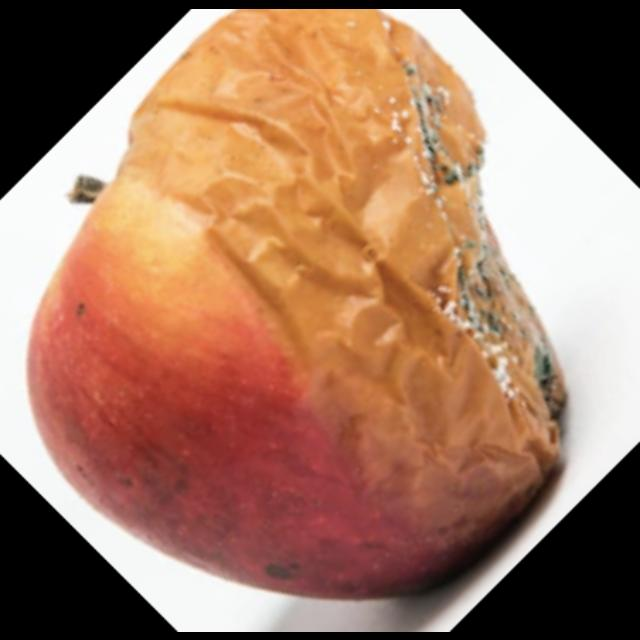Apel Tidak Segar: (23, 8, 571, 596)
